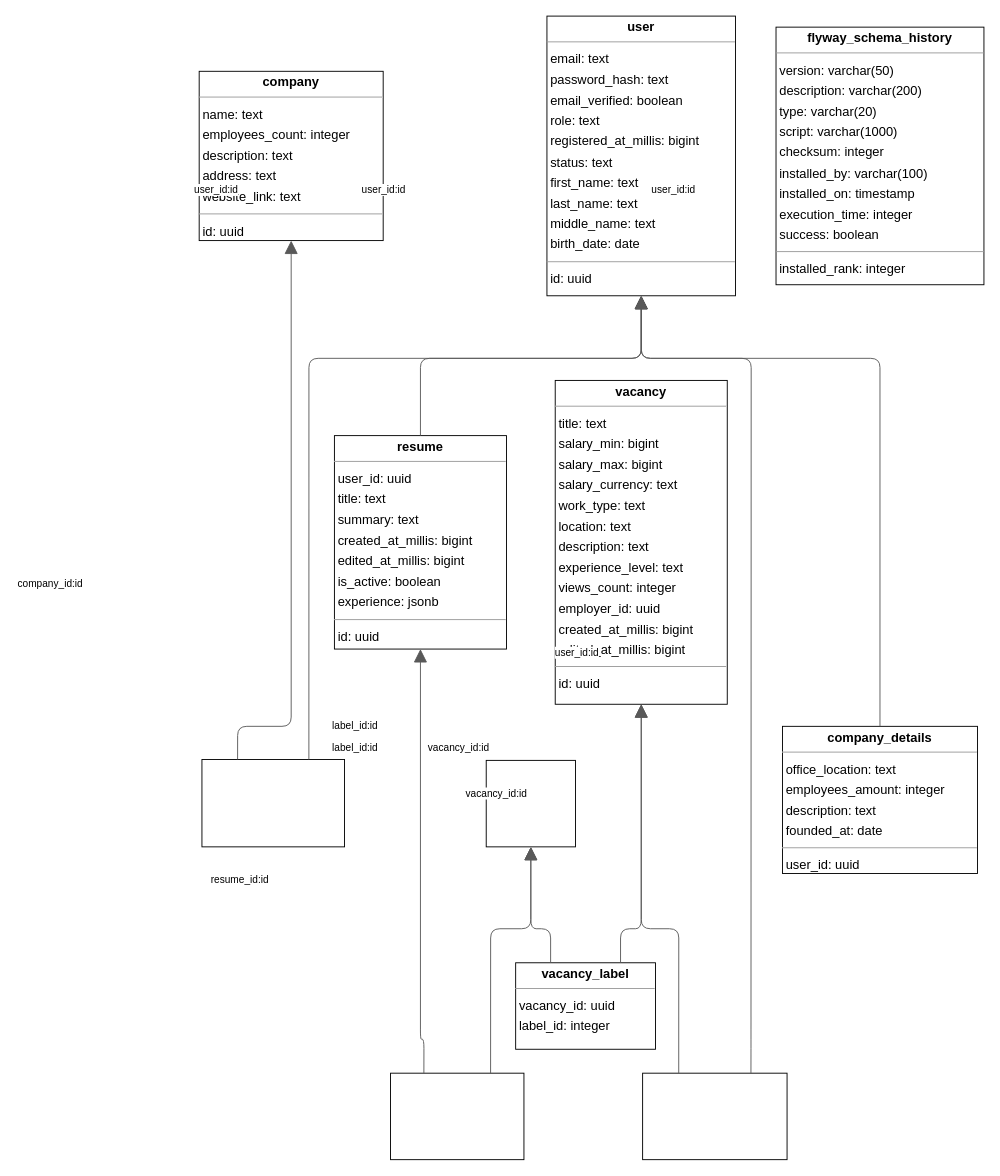
Image size: 1000x1176. Some labels were removed from this diagram. Here are the shapes that lost their labels. From the top down, the centre of each, then its label:
At [273,803]: "user_company company_id: uuid user_id: uuid".
At [530,803]: "label id: integer name: text".
At [457,1116]: "resume_label resume_id: uuid label_id: integer".
At [714,1116]: "vacancy_apply vacancy_id: uuid user_id: uuid".
